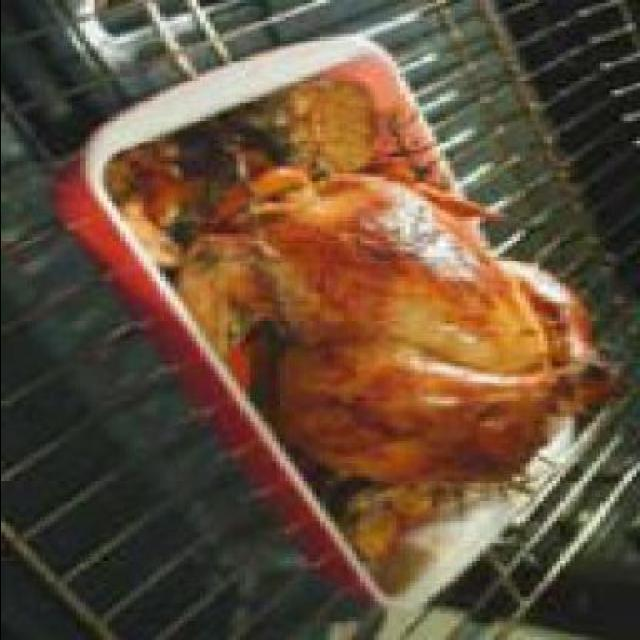Chicken roast: (231, 120, 595, 517)
